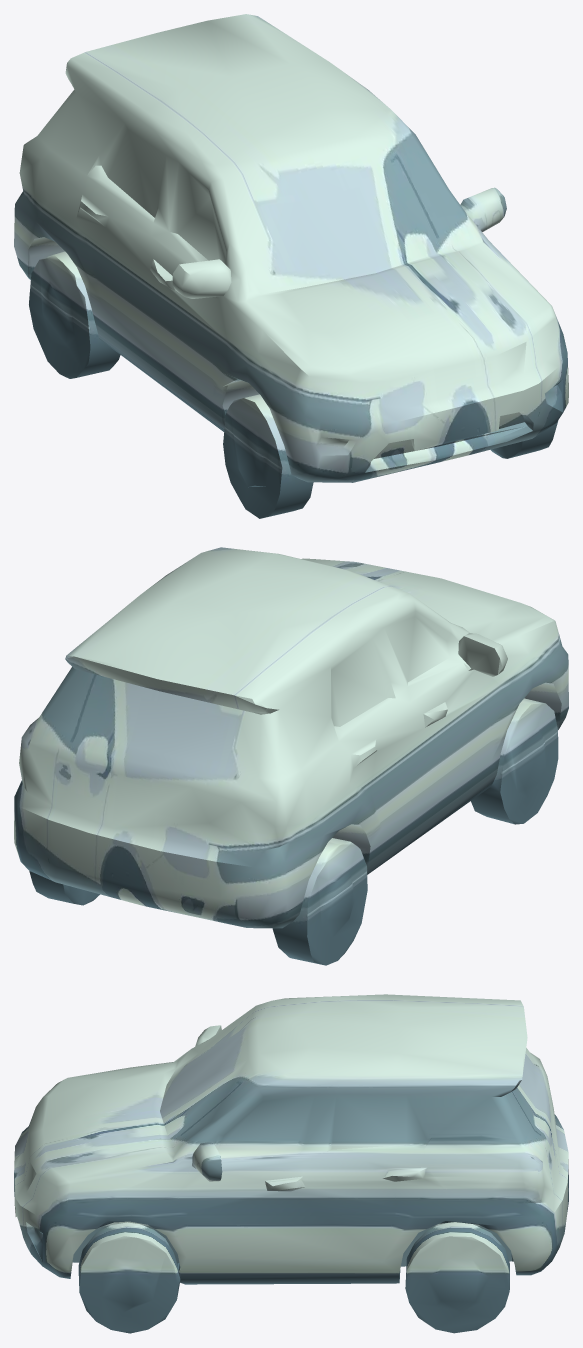
3 renders of one model, top to bottom at view 1: azimuth 30°, elevation 25°; view 2: azimuth 150°, elevation 25°; view 3: azimuth 270°, elevation 25°, orthographic. The views are drawn at different scales.
Parts seen in each view (by area): view 1: Decor_suv; view 2: Decor_suv; view 3: Decor_suv.
Part boxes in pixels (x1=…): Decor_suv: x1=14, y1=14, x2=568, y2=518; Decor_suv: x1=14, y1=547, x2=568, y2=965; Decor_suv: x1=14, y1=994, x2=568, y2=1333.
Size of the model in its own units: 2.08 by 1.75 by 3.56.
Materials: 1 (1 with a texture image).
